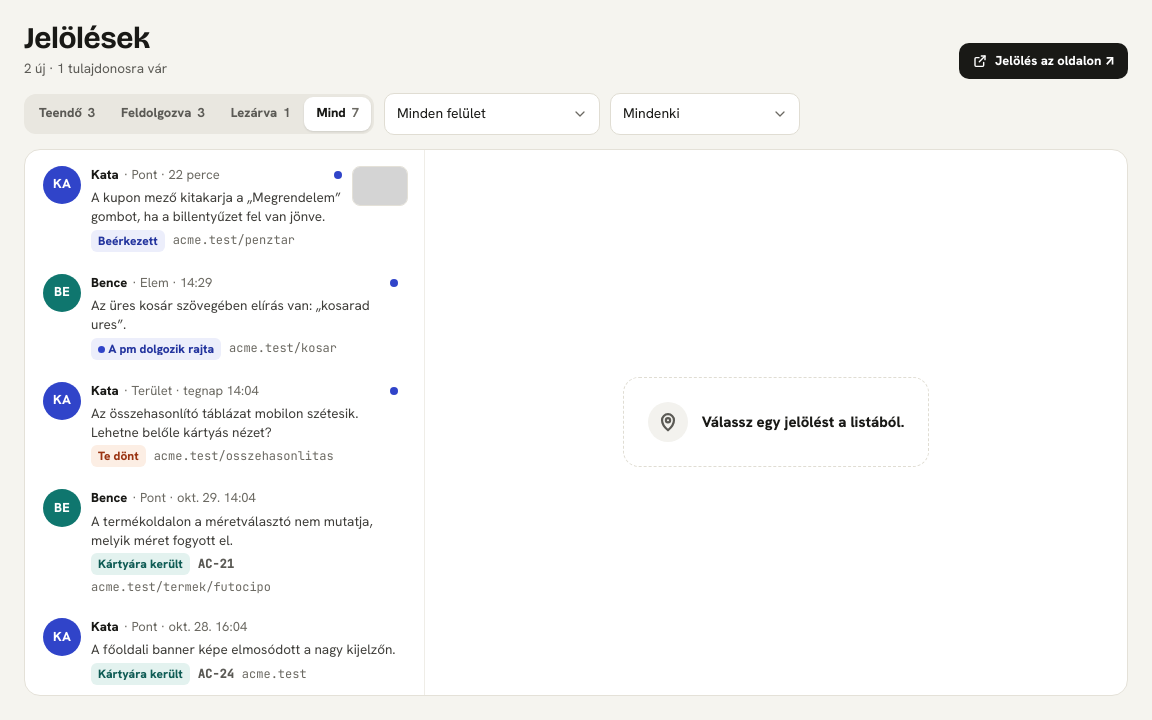
Scenario: the mark list › narrows the list to one marker
Check: the list named "Jelölések" is shown, box [25,150,424,695]
Select "Bence" in the 2nd dropdown named "Jelölő". click: (705, 114)
box: [610,93,800,135]
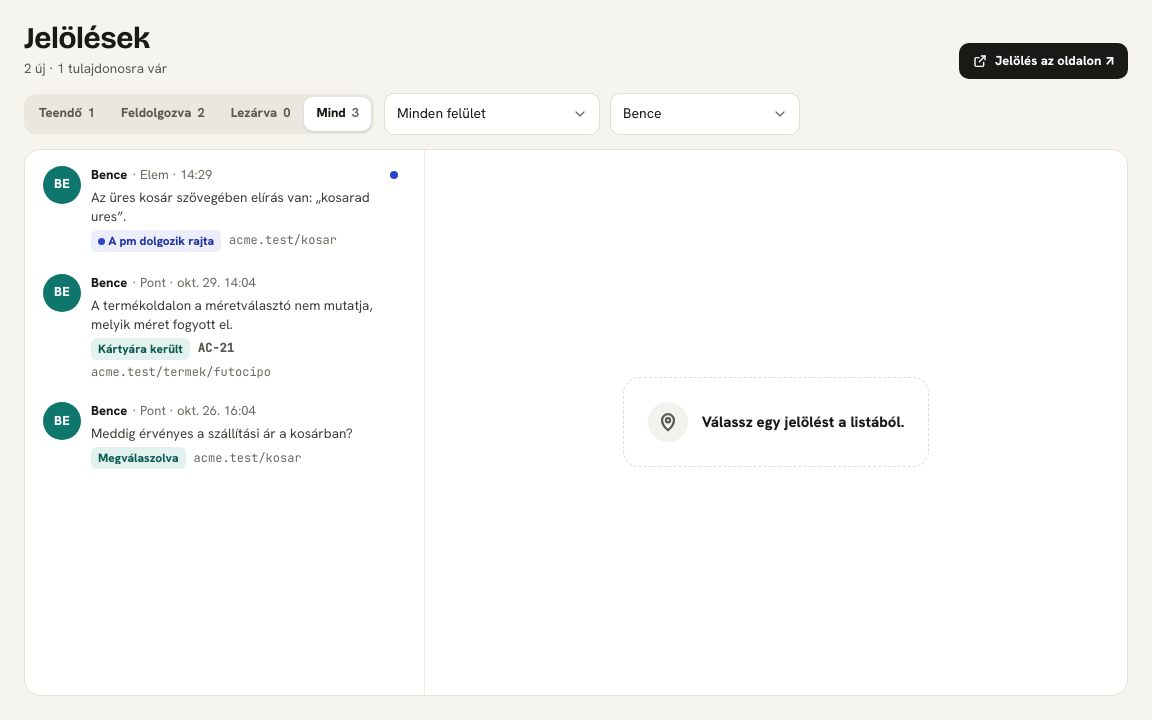
Check: the text "Az üres kosár szövegében elírás van: „kosarad ures”." is shown, box [91,188,398,226]
Check: the link "A kupon mező kitakarja" is gone
